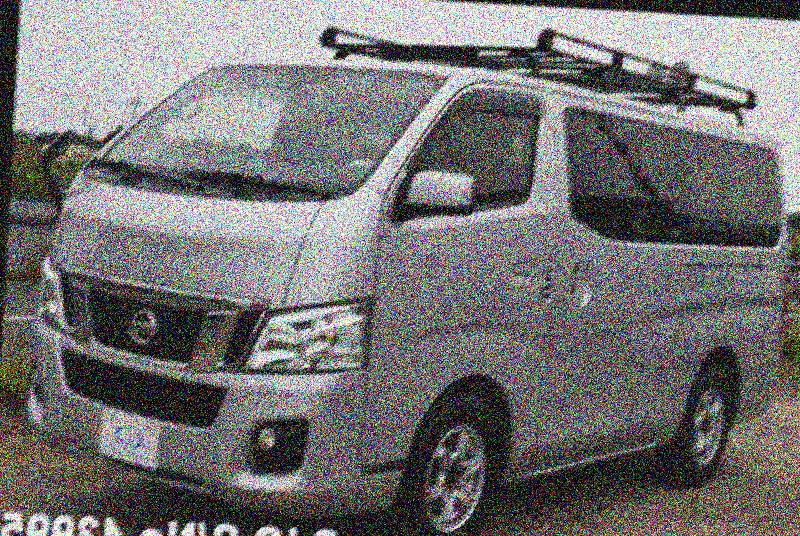van: (13, 44, 792, 536)
